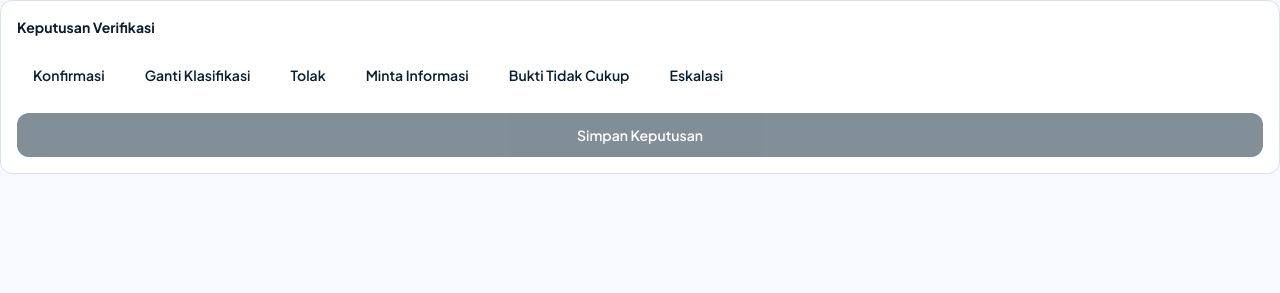
DecisionPanel › selecting 'Konfirmasi' shows notes as optional and enables submit without notes
Click the button "Konfirmasi". click: coordinates (69, 75)
box: [17, 53, 121, 97]
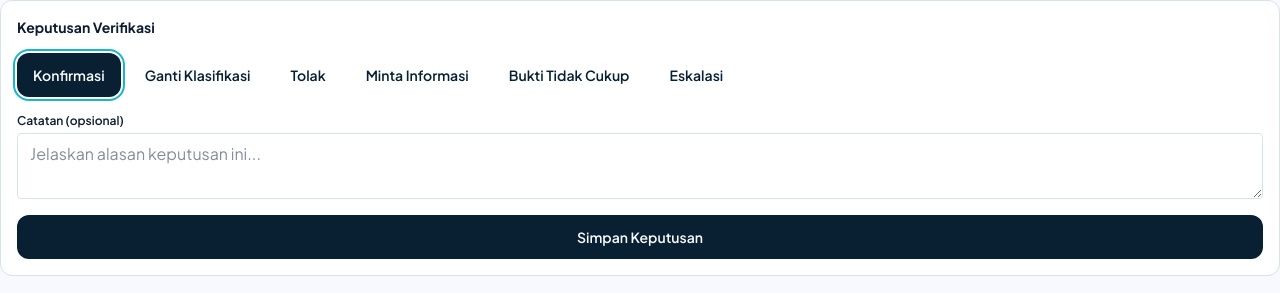
Now the text "Catatan (opsional)" is shown, box [17, 113, 124, 128]
Now the button "Simpan Keputusan" is enabled, box [17, 215, 1263, 259]
